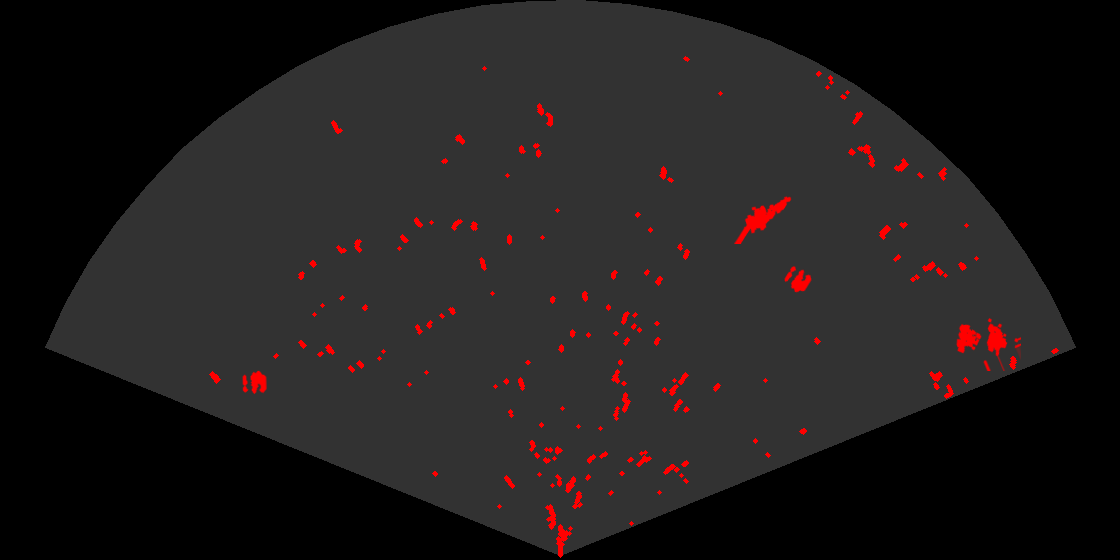ball: (783, 264, 813, 294), (241, 369, 268, 396)
cage: (955, 316, 1021, 371)
frogman: (734, 195, 793, 244)
